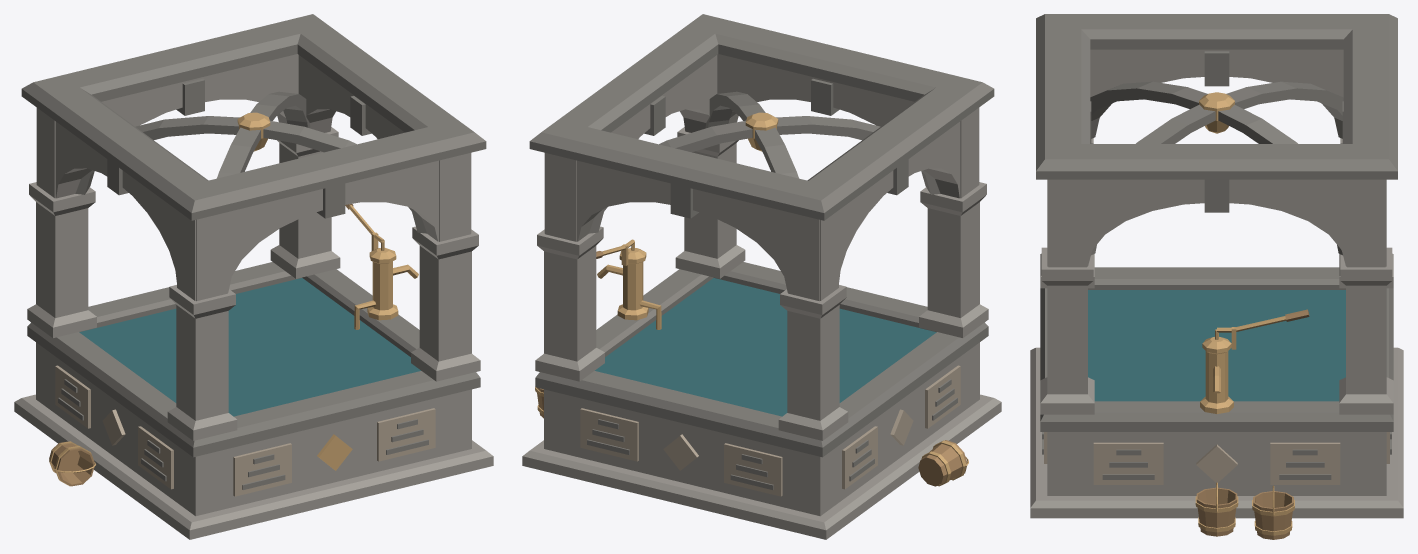
File: cistern.glb
The picture shows the model from 3 angles, left to right: view 1: azimuth 30°, elevation 25°; view 2: azimuth 150°, elevation 25°; view 3: azimuth 270°, elevation 25°; orthographic projection. The views are drawn at different scales.
Parts seen in each view (by area): view 1: cornice, basin, water, rim, arch_s, pillar_fl, pillar_bl, pillar_fr, arch_n, arch_w, arch_e, pillar_br (+13 smaller); view 2: cornice, basin, water, rim, arch_n, pillar_bl, pillar_fl, pillar_br, arch_s, arch_w, arch_e, pillar_fr (+13 smaller); view 3: cornice, water, basin, rim, arch_e, arch_w, pillar_br, pillar_fr, vault_rib_a, vault_rib_b, arch_n, arch_s (+9 smaller).
Part boxes in pixels (x1=…): cornice: x1=21, y1=14, x2=486, y2=220; basin: x1=14, y1=342, x2=493, y2=539; water: x1=79, y1=278, x2=420, y2=416; rim: x1=27, y1=262, x2=480, y2=457; arch_s: x1=177, y1=153, x2=471, y2=300; pillar_fl: x1=167, y1=285, x2=237, y2=440; pillar_bl: x1=27, y1=182, x2=96, y2=337; pillar_fr: x1=411, y1=226, x2=480, y2=381; arch_n: x1=36, y1=54, x2=330, y2=198; arch_w: x1=55, y1=121, x2=227, y2=301; arch_e: x1=298, y1=55, x2=470, y2=241; pillar_br: x1=270, y1=127, x2=340, y2=278; cornice: x1=529, y1=14, x2=994, y2=220; basin: x1=522, y1=342, x2=1001, y2=539; water: x1=595, y1=278, x2=936, y2=416; rim: x1=535, y1=262, x2=988, y2=457; arch_n: x1=544, y1=153, x2=838, y2=300; pillar_bl: x1=778, y1=285, x2=848, y2=440; pillar_fl: x1=919, y1=182, x2=988, y2=337; pillar_br: x1=535, y1=226, x2=604, y2=381; arch_s: x1=685, y1=54, x2=979, y2=198; arch_w: x1=788, y1=121, x2=960, y2=301; arch_e: x1=545, y1=55, x2=717, y2=241; pillar_fr: x1=675, y1=127, x2=745, y2=278; cornice: x1=1036, y1=14, x2=1397, y2=179; water: x1=1088, y1=290, x2=1345, y2=401; basin: x1=1030, y1=347, x2=1403, y2=518; rim: x1=1040, y1=267, x2=1393, y2=431; arch_e: x1=1047, y1=179, x2=1386, y2=266; arch_w: x1=1090, y1=49, x2=1343, y2=96; pillar_br: x1=1339, y1=247, x2=1393, y2=414; pillar_fr: x1=1040, y1=247, x2=1094, y2=414; vault_rib_a: x1=1090, y1=81, x2=1342, y2=255; vault_rib_b: x1=1091, y1=81, x2=1343, y2=255; arch_n: x1=1347, y1=179, x2=1385, y2=267; arch_s: x1=1048, y1=179, x2=1086, y2=267.
Size of what is drawn, in the model's own units: 4.36 by 3.44 by 3.3.
